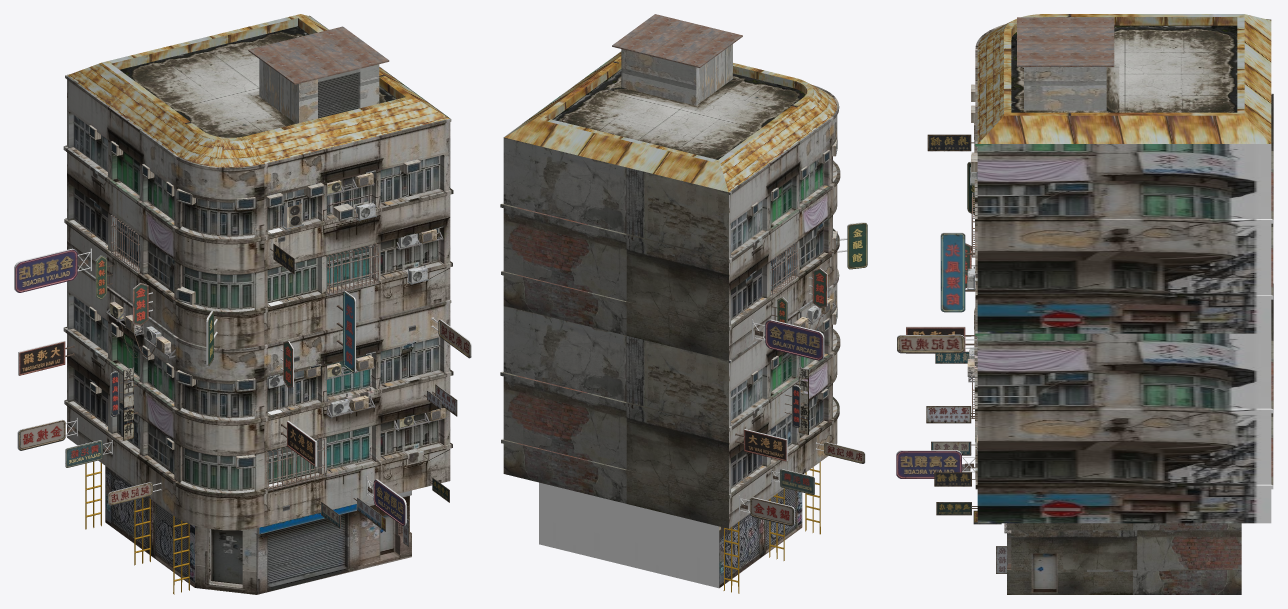
3 views of the same model, side by side, from view 1: azimuth 30°, elevation 25°; view 2: azimuth 150°, elevation 25°; view 3: azimuth 270°, elevation 25° (orthographic). The views are drawn at different scales.
Parts seen in each view (by area): view 1: Cube.047; view 2: Cube.047; view 3: Cube.047.
Boxes of the visible parts, x1=… form: Cube.047: x1=14, y1=14, x2=471, y2=594; Cube.047: x1=500, y1=14, x2=867, y2=593; Cube.047: x1=896, y1=14, x2=1273, y2=594.
Size of the model in its own units: 2.65 by 3.93 by 2.57.
16 materials, 13 textured.
